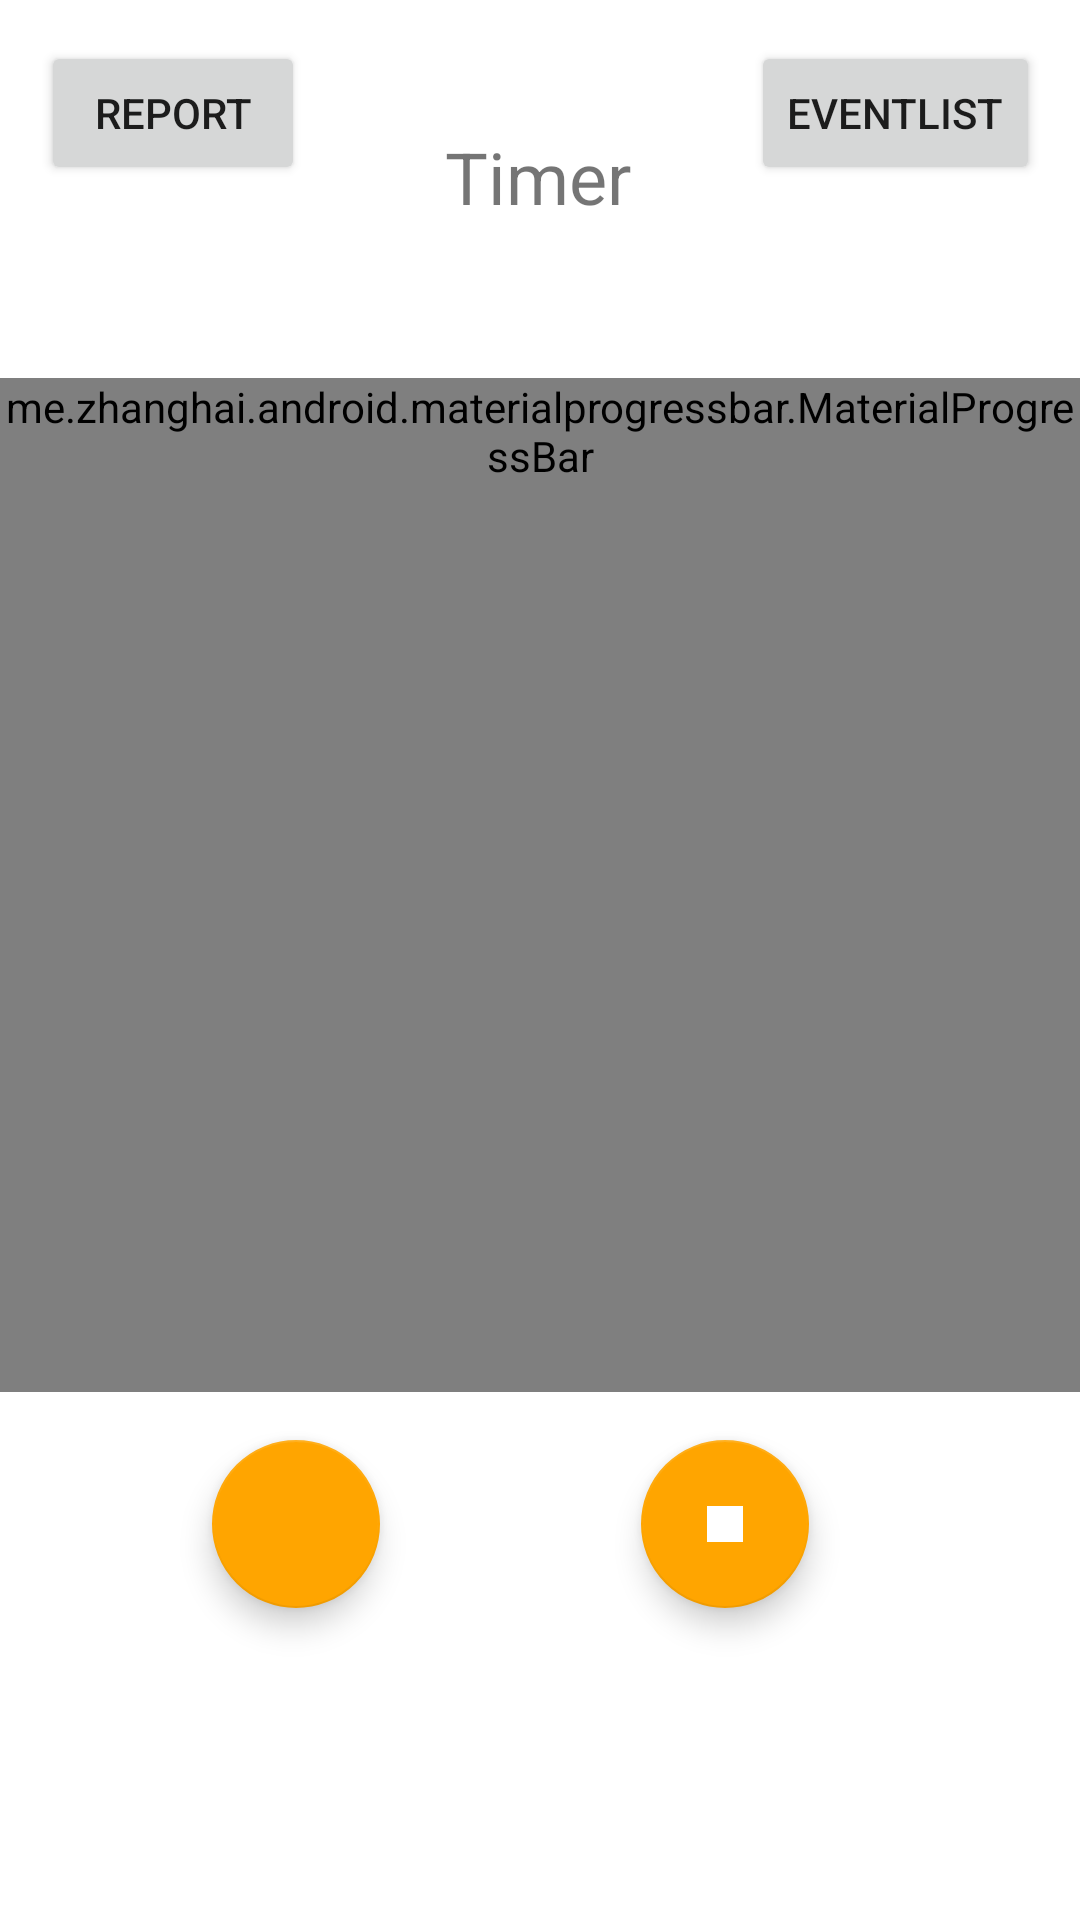

Icons on this 1080w x 1920h Android screen, each with the point to tap as (x=x, y=y):
stop: (x=725, y=1524)
